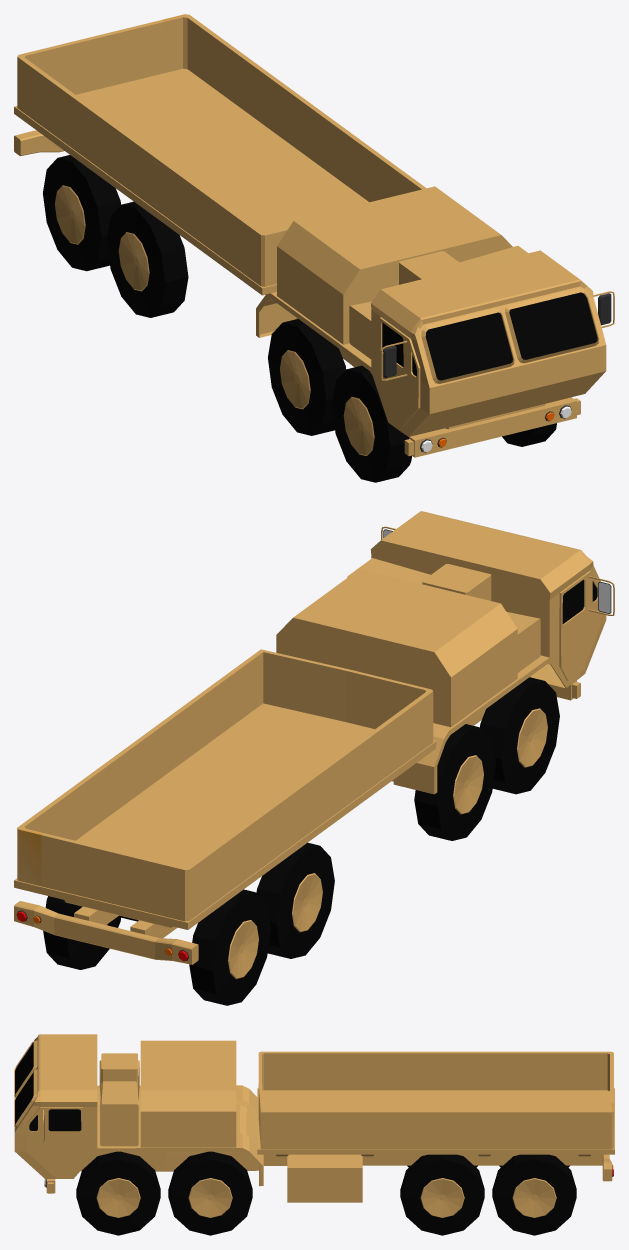
3 renders of one model, top to bottom at view 1: azimuth 30°, elevation 25°; view 2: azimuth 150°, elevation 25°; view 3: azimuth 270°, elevation 25°, orthographic. The views are drawn at different scales.
Parts seen in each view (by area): view 1: Cube.008, Plane.020, Cylinder.038, Cylinder.037, Cylinder.039, Plane.005, Cylinder.040, Plane.021, Cylinder.036; view 2: Cube.008, Plane.020, Cylinder.039, Plane.005, Cylinder.040, Cylinder.038, Cylinder.037, Plane.021, Cylinder.043; view 3: Cube.008, Plane.020, Cylinder.036, Cylinder.041, Cylinder.042, Cylinder.043, Plane.024.
Part boxes in pixels (box(x1,y1,x2,y2)): Cube.008: box(14, 14, 527, 359); Plane.020: box(14, 130, 606, 457); Cylinder.038: box(106, 201, 188, 317); Cylinder.037: box(268, 319, 346, 435); Cylinder.039: box(43, 155, 121, 271); Plane.005: box(41, 20, 164, 94); Cylinder.040: box(331, 365, 411, 482); Plane.021: box(379, 317, 420, 426); Cylinder.036: box(502, 423, 556, 446); Cube.008: box(14, 558, 540, 929); Plane.020: box(14, 511, 606, 964); Cylinder.039: box(189, 889, 270, 1005); Plane.005: box(41, 833, 164, 915); Cylinder.040: box(480, 677, 559, 794); Cylinder.038: box(256, 842, 334, 958); Cylinder.037: box(414, 724, 495, 840); Plane.021: box(559, 571, 614, 680); Cylinder.043: box(43, 896, 121, 969); Cube.008: box(99, 1040, 614, 1202); Plane.020: box(14, 1034, 613, 1193); Cylinder.036: box(76, 1151, 160, 1235); Cylinder.041: box(168, 1151, 252, 1235); Cylinder.042: box(400, 1154, 484, 1235); Cylinder.043: box(492, 1154, 576, 1235); Plane.024: box(27, 1107, 83, 1174).
Bounding box in the file's own units: 380 × 310 × 1176.
